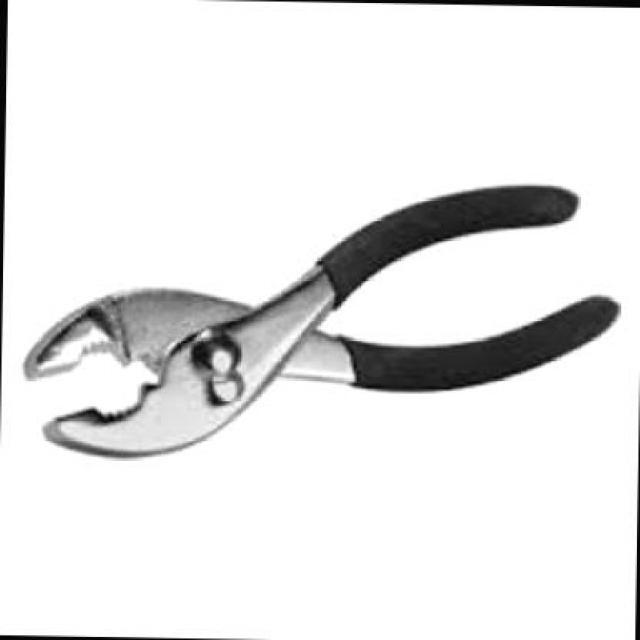pliers: (12, 160, 626, 506)
